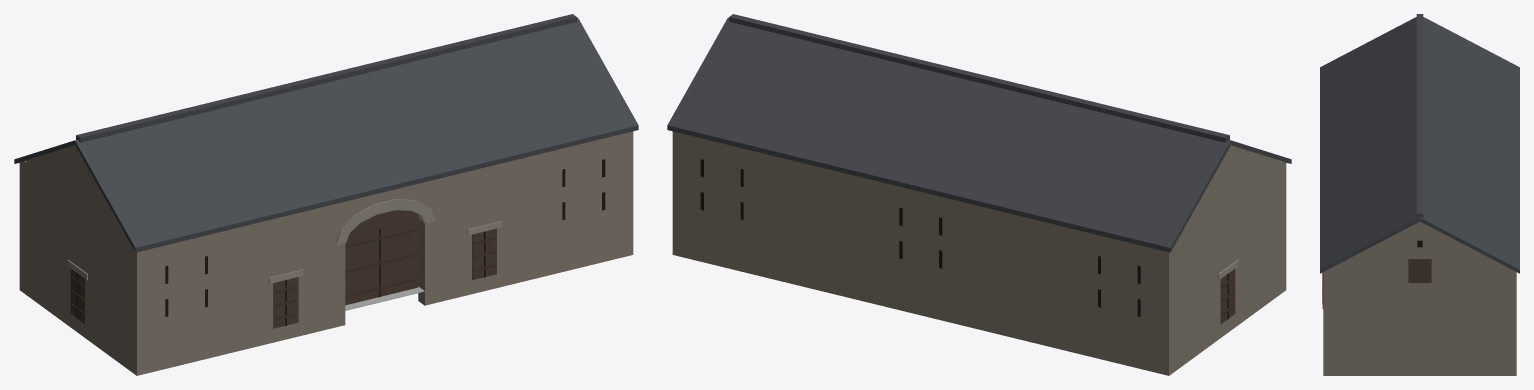
Rendered from context.farm.bank_barn.glb.
3 renders of one model, left to right at view 1: azimuth 30°, elevation 25°; view 2: azimuth 150°, elevation 25°; view 3: azimuth 270°, elevation 25°, orthographic. The views are drawn at different scales.
Visible parts, largest first — view 1: main__stone_877, main__tile_445, main__timber_543, main__tile_444, main__stone_988, main__timber_433, main__paint_221; view 2: main__stone_877, main__tile_445, main__tile_444, main__paint_221, main__timber_543; view 3: main__tile_445, main__stone_877, main__tile_444, main__timber_543.
Boxes of the visible parts, box(x1,y1,x2,y2) form: main__stone_877: box(19, 131, 633, 375); main__tile_445: box(14, 17, 638, 252); main__timber_543: box(70, 210, 496, 328); main__tile_444: box(76, 14, 576, 142); main__stone_988: box(67, 199, 501, 283); main__timber_433: box(71, 228, 495, 320); main__paint_221: box(77, 159, 605, 325); main__stone_877: box(672, 131, 1286, 375); main__tile_445: box(667, 17, 1291, 252); main__tile_444: box(729, 14, 1229, 142); main__paint_221: box(700, 159, 1228, 319); main__timber_543: box(1220, 269, 1235, 323); main__tile_445: box(1320, 17, 1519, 273); main__stone_877: box(1323, 221, 1516, 375); main__tile_444: box(1416, 14, 1423, 217); main__timber_543: box(1322, 259, 1431, 308).
Bounding box in the file's own units: 22.3 × 8.32 × 9.3.
